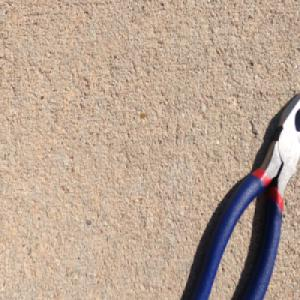Pliers: (187, 89, 300, 300)
